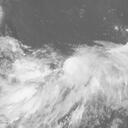cyclone: (62, 55, 105, 91)
